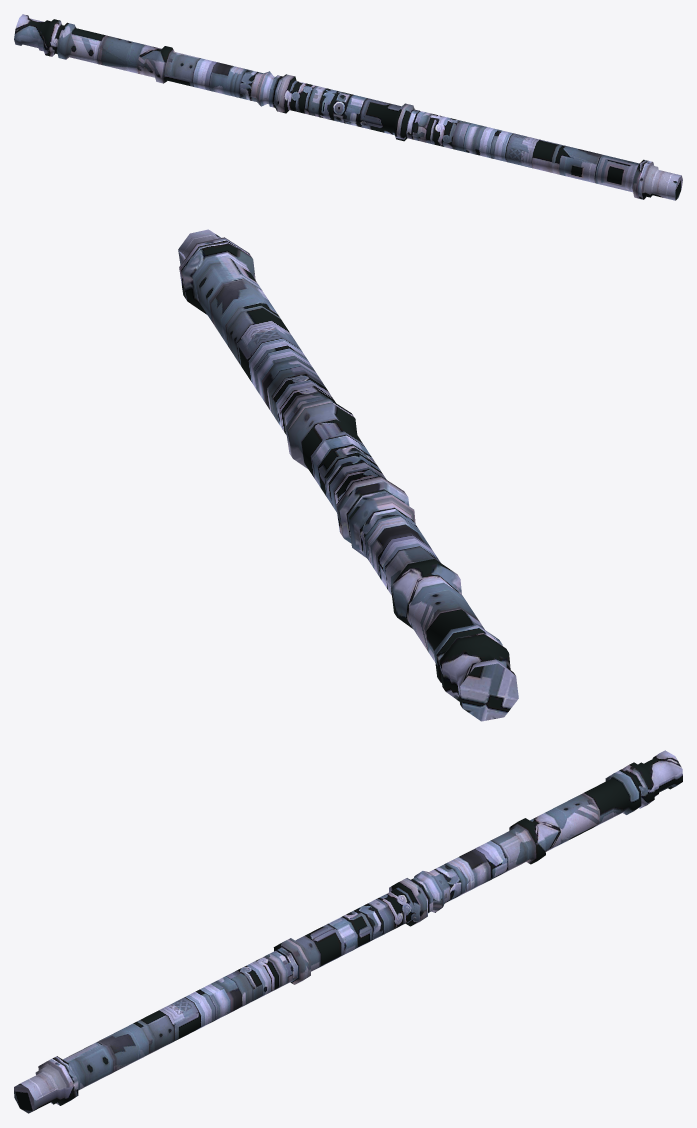
The model's file is Weapon.FBX.
The picture shows the model from 3 angles, top to bottom: view 1: azimuth 30°, elevation 25°; view 2: azimuth 150°, elevation 25°; view 3: azimuth 270°, elevation 25°; orthographic projection. The views are drawn at different scales.
Parts seen in each view (by area): view 1: Mesh_0031; view 2: Mesh_0031; view 3: Mesh_0031.
Part boxes in pixels (left/top/right/bottom): Mesh_0031: left=14, top=14, right=682, bottom=200; Mesh_0031: left=178, top=229, right=518, bottom=721; Mesh_0031: left=14, top=750, right=682, bottom=1113.
Size of the model in its own units: 66.48 by 14.36 by 73.3.
